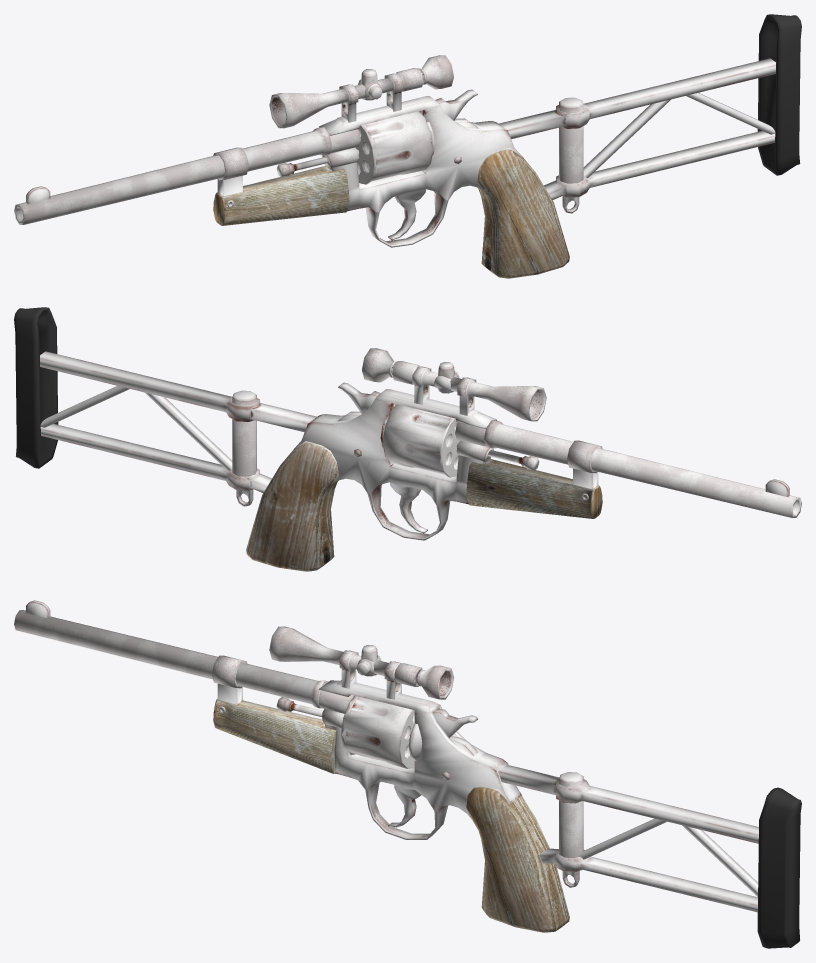
The model's file is revolver3x.glb.
3 views of the same model, one above another, from view 1: azimuth 30°, elevation 25°; view 2: azimuth 150°, elevation 25°; view 3: azimuth 330°, elevation 25° (orthographic).
Visible parts, largest first — view 1: Object_3; view 2: Object_3; view 3: Object_3.
Boxes of the visible parts, x1,y1,x2,y2 form: Object_3: (14, 14, 801, 278); Object_3: (14, 307, 801, 571); Object_3: (14, 600, 801, 948).
Size of the model in its own units: 17.62 by 5.07 by 1.31.
Materials: 1 (1 with a texture image).
